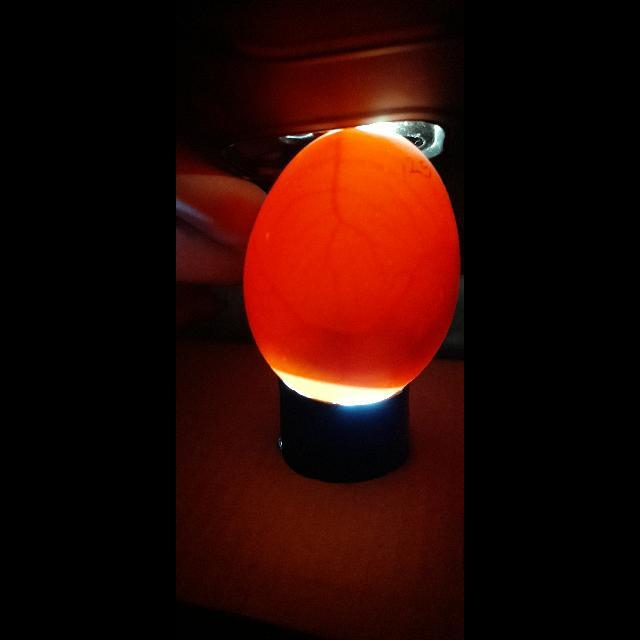Fertile: (245, 116, 460, 400)
